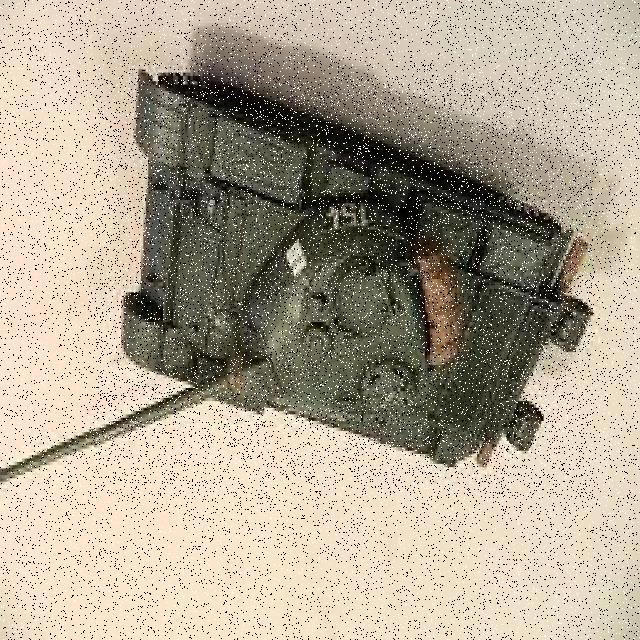MIL_MBT: (94, 78, 593, 498)
